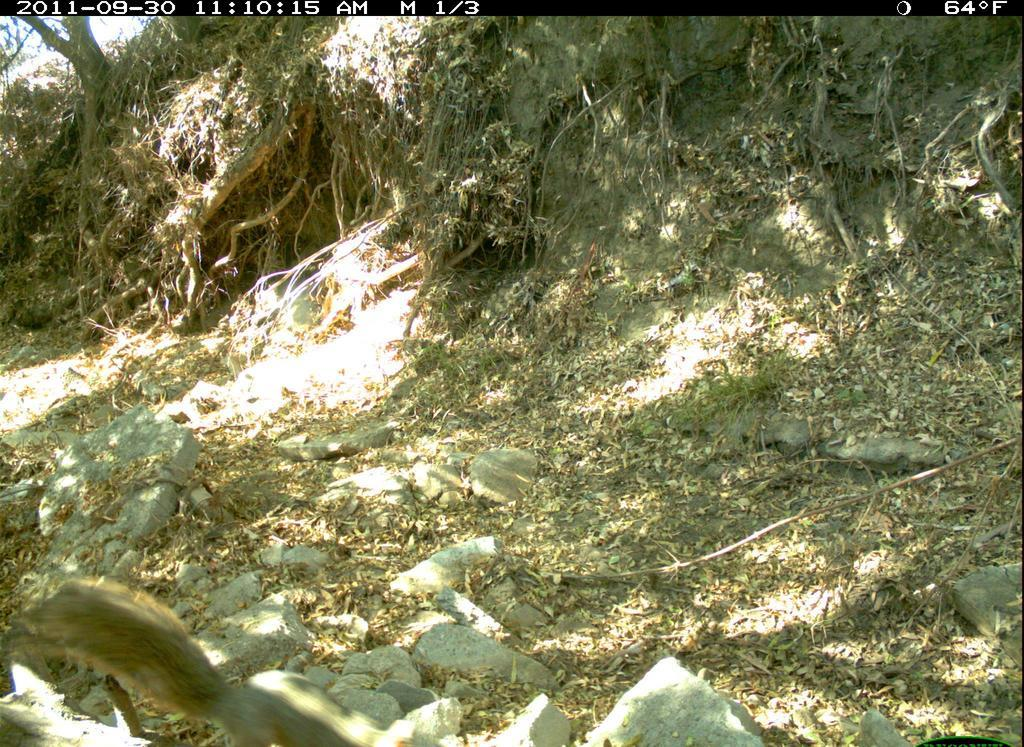squirrel: (20, 584, 379, 745)
